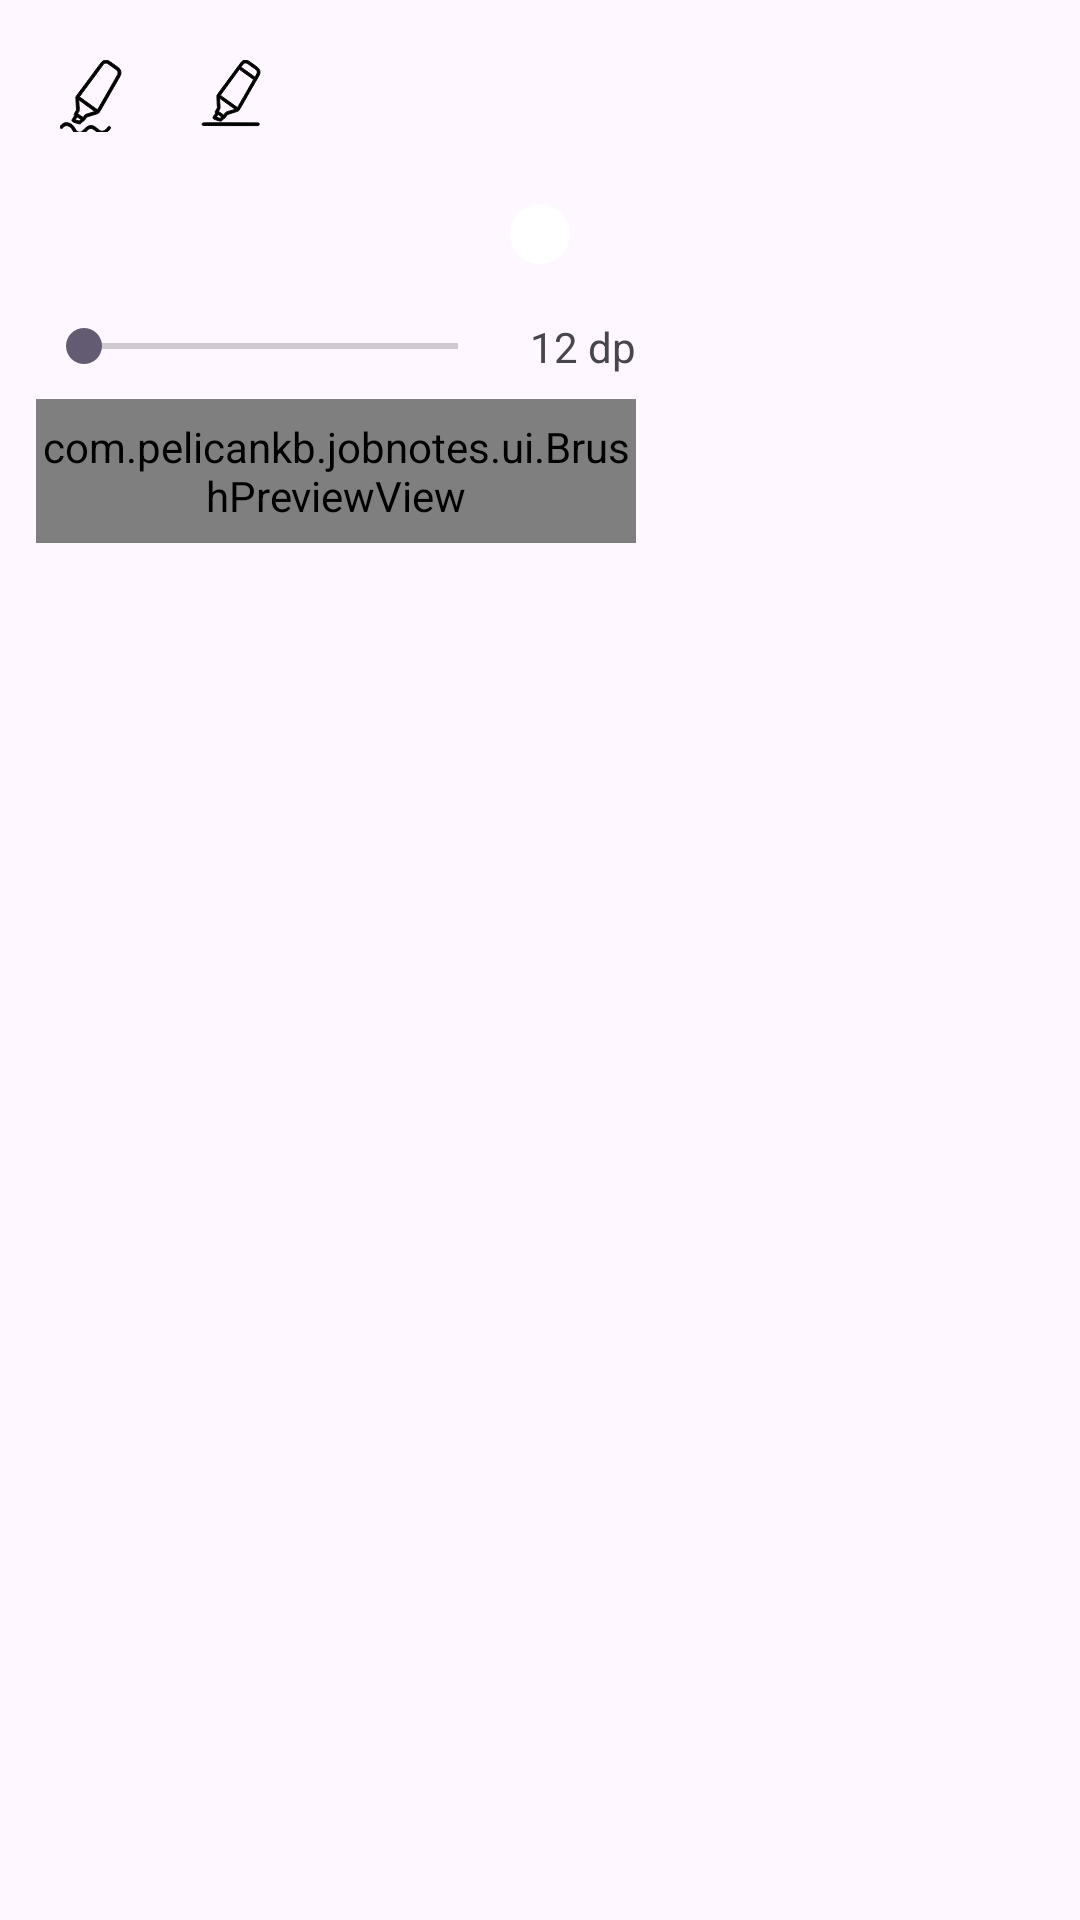

Icon bounding boxes for this 1080px x 1920px phone screenshot, format box=[x1, y1, x2, y2]:
highlight freeform: box=[60, 60, 122, 132]
highlight straight: box=[201, 60, 261, 126]
